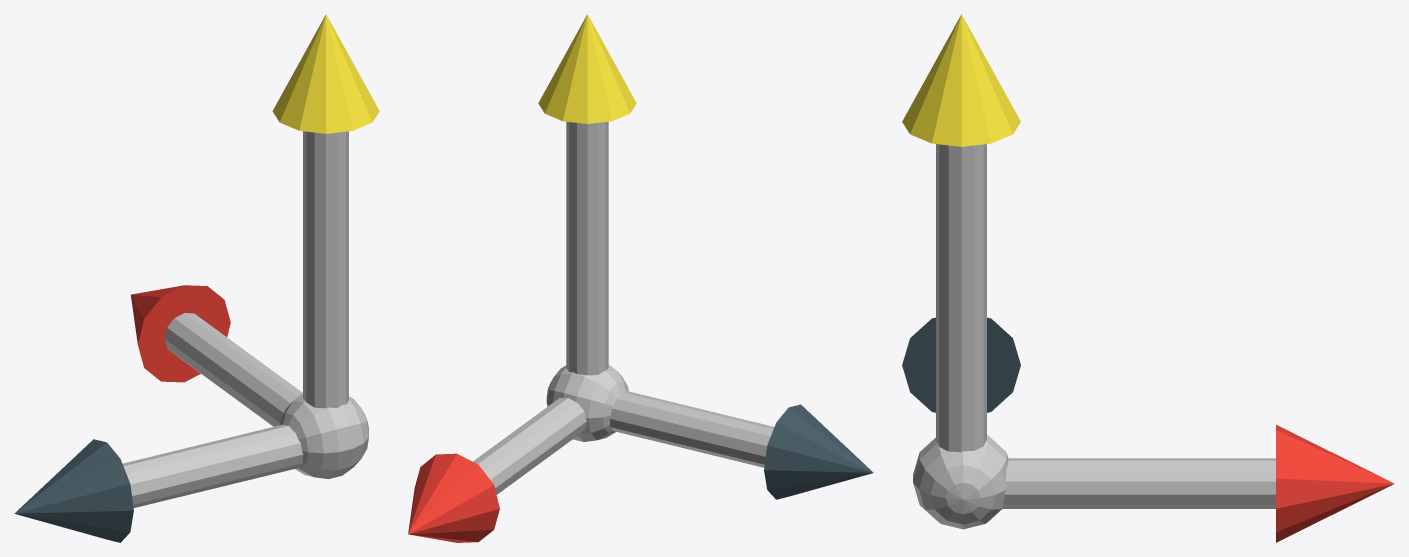
Rendered from moveIcon.fbx.
3 renders of one model, left to right at view 1: azimuth 30°, elevation 25°; view 2: azimuth 150°, elevation 25°; view 3: azimuth 270°, elevation 25°, orthographic. The views are drawn at different scales.
Visible parts, largest first — view 1: mesh_451806296, mesh_1886156887, mesh_1407308967, mesh_345644164, mesh_2040090868, mesh_1998622252, mesh_799689574; view 2: mesh_451806296, mesh_1886156887, mesh_1998622252, mesh_1407308967, mesh_345644164, mesh_2040090868, mesh_799689574; view 3: mesh_451806296, mesh_2040090868, mesh_345644164, mesh_1998622252, mesh_799689574, mesh_1407308967.
Boxes of the visible parts, bbox=[...] form: mesh_451806296: bbox=[303, 131, 348, 408]; mesh_1886156887: bbox=[122, 424, 303, 507]; mesh_1407308967: bbox=[14, 439, 133, 542]; mesh_345644164: bbox=[272, 14, 379, 133]; mesh_2040090868: bbox=[164, 313, 302, 426]; mesh_1998622252: bbox=[131, 285, 230, 382]; mesh_799689574: bbox=[279, 393, 368, 479]; mesh_451806296: bbox=[566, 121, 608, 375]; mesh_1886156887: bbox=[609, 391, 774, 467]; mesh_1998622252: bbox=[408, 453, 499, 542]; mesh_1407308967: bbox=[764, 404, 873, 499]; mesh_345644164: bbox=[538, 14, 636, 123]; mesh_2040090868: bbox=[473, 398, 586, 494]; mesh_799689574: bbox=[546, 364, 628, 441]; mesh_451806296: bbox=[936, 144, 986, 452]; mesh_2040090868: bbox=[1002, 458, 1275, 508]; mesh_345644164: bbox=[902, 14, 1020, 146]; mesh_1998622252: bbox=[1276, 424, 1394, 542]; mesh_799689574: bbox=[913, 435, 1008, 529]; mesh_1407308967: bbox=[902, 317, 1020, 412].
Bounding box in the file's own units: 27 × 34 × 29.
